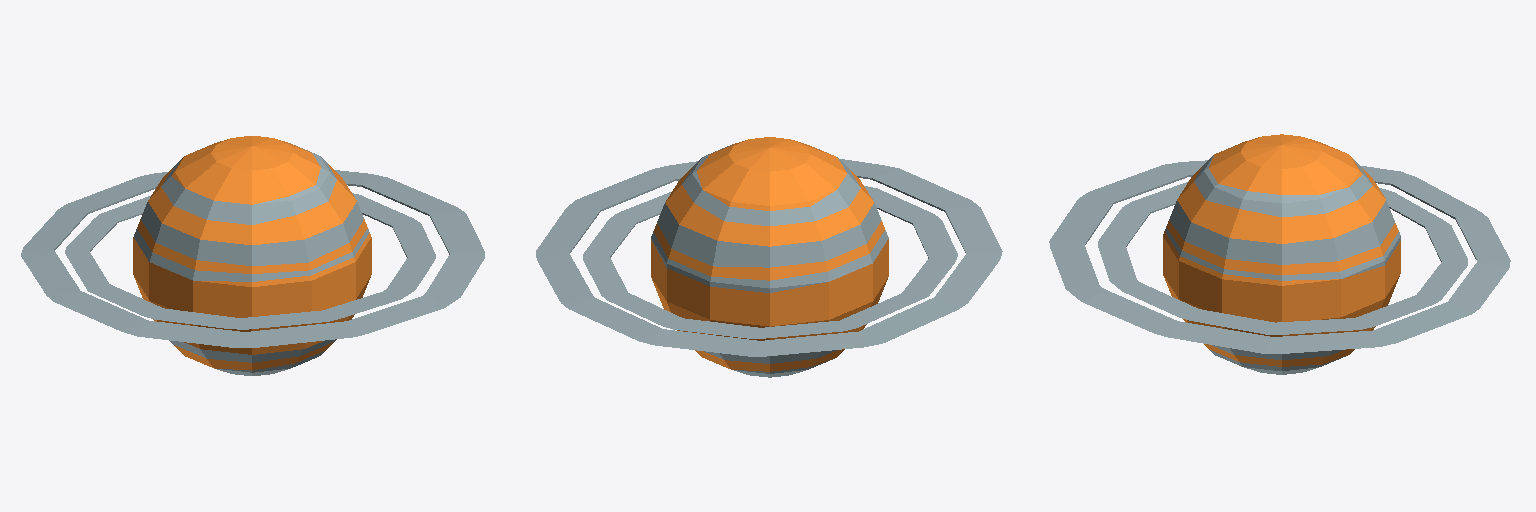
3 views of the same model, side by side, from view 1: azimuth 30°, elevation 25°; view 2: azimuth 150°, elevation 25°; view 3: azimuth 270°, elevation 25° (orthographic).
Parts seen in each view (by area): view 1: group[number redacted], group[number redacted], group[number redacted]; view 2: group[number redacted], group[number redacted], group[number redacted]; view 3: group[number redacted], group[number redacted], group[number redacted].
Part boxes in pixels (bbox=[...]): group[number redacted]: bbox=[133, 136, 371, 375]; group[number redacted]: bbox=[21, 170, 484, 347]; group[number redacted]: bbox=[65, 193, 435, 329]; group[number redacted]: bbox=[651, 137, 888, 377]; group[number redacted]: bbox=[536, 159, 1002, 356]; group[number redacted]: bbox=[583, 186, 957, 338]; group[number redacted]: bbox=[1163, 134, 1400, 374]; group[number redacted]: bbox=[1049, 160, 1510, 353]; group[number redacted]: bbox=[1098, 181, 1467, 334].
Bounding box in the file's own units: 2.67 × 1.39 × 2.65.